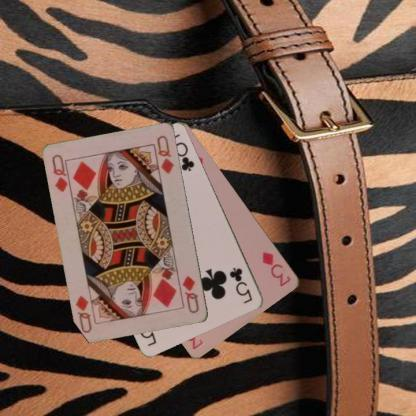3d: (259, 248, 292, 288)
5c: (227, 265, 254, 306)
Qd: (49, 152, 74, 196), (180, 273, 200, 315)
